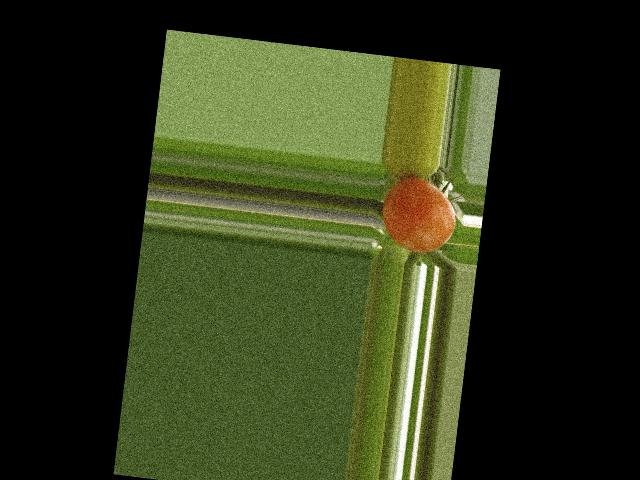tomato: (378, 173, 460, 256)
